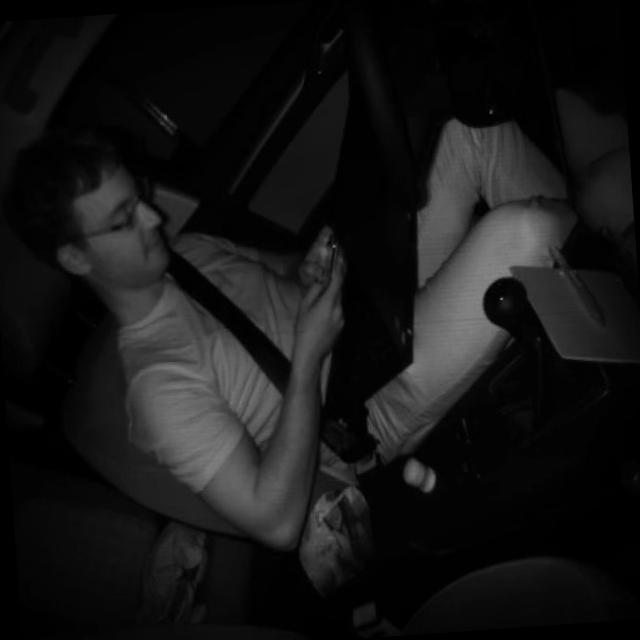pen: (548, 240, 609, 333)
